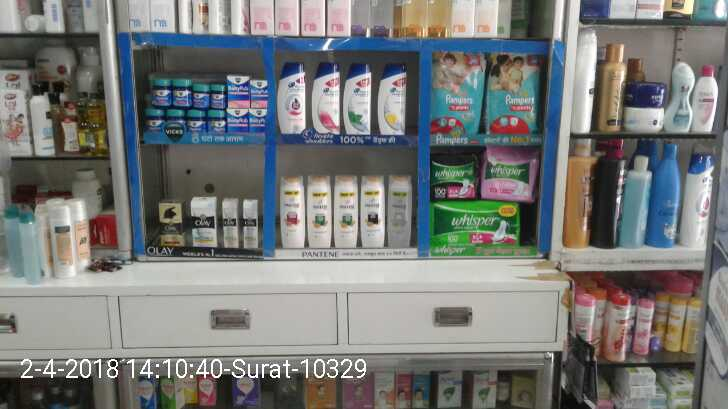vicks: (228, 74, 251, 107), (227, 108, 248, 135), (248, 110, 270, 135), (187, 110, 208, 135), (172, 79, 192, 105), (152, 79, 172, 104), (251, 80, 269, 107), (144, 108, 166, 130), (208, 110, 225, 135), (166, 110, 187, 130), (192, 81, 209, 105), (210, 82, 228, 104)
